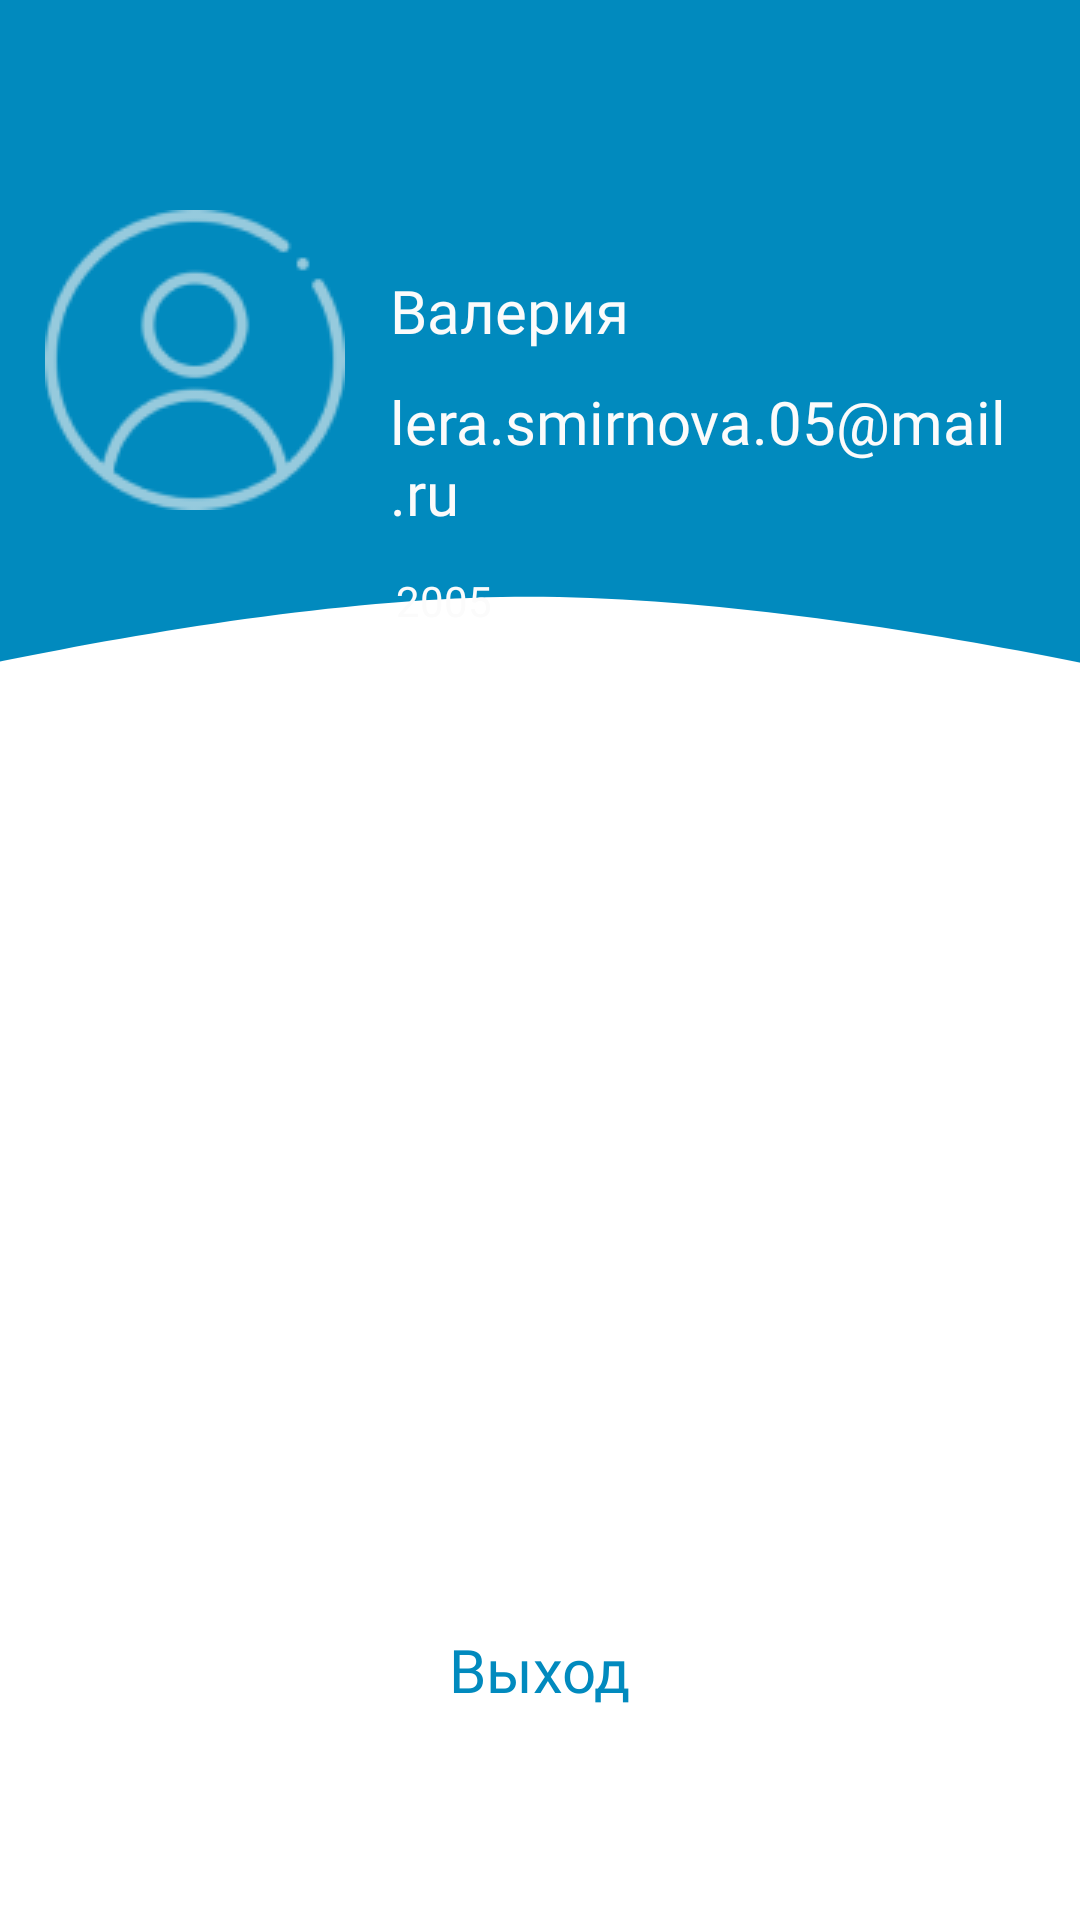

Named icons in this screenshot (1080w x 1920h) and their bounding boxes, bbox(x1, y1, x2, y2):
user photo: bbox(45, 210, 345, 510)
